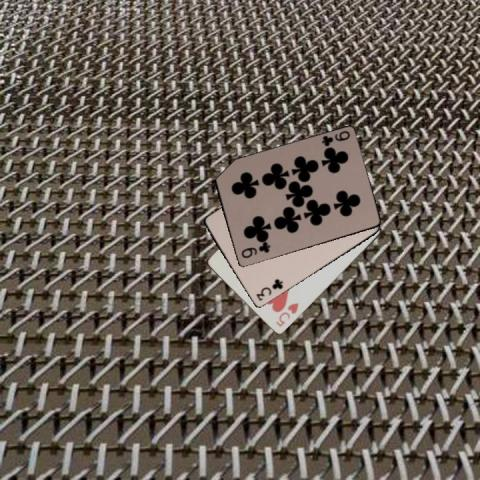3c: (253, 276, 284, 303)
5h: (273, 300, 300, 328)
9c: (319, 128, 351, 148), (238, 241, 271, 260)
